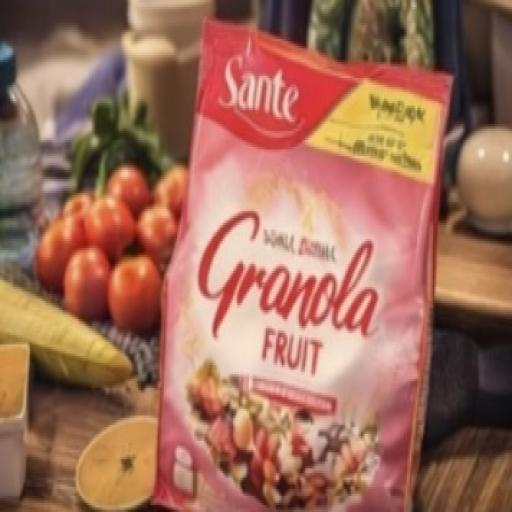granola: (161, 13, 455, 504)
